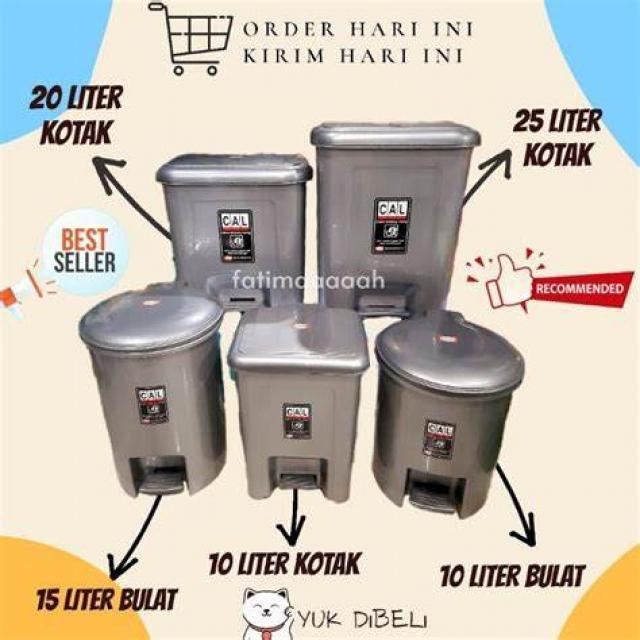garbage container: (376, 311, 560, 536), (68, 288, 241, 523), (314, 108, 488, 318), (225, 299, 377, 524), (147, 144, 321, 307)
